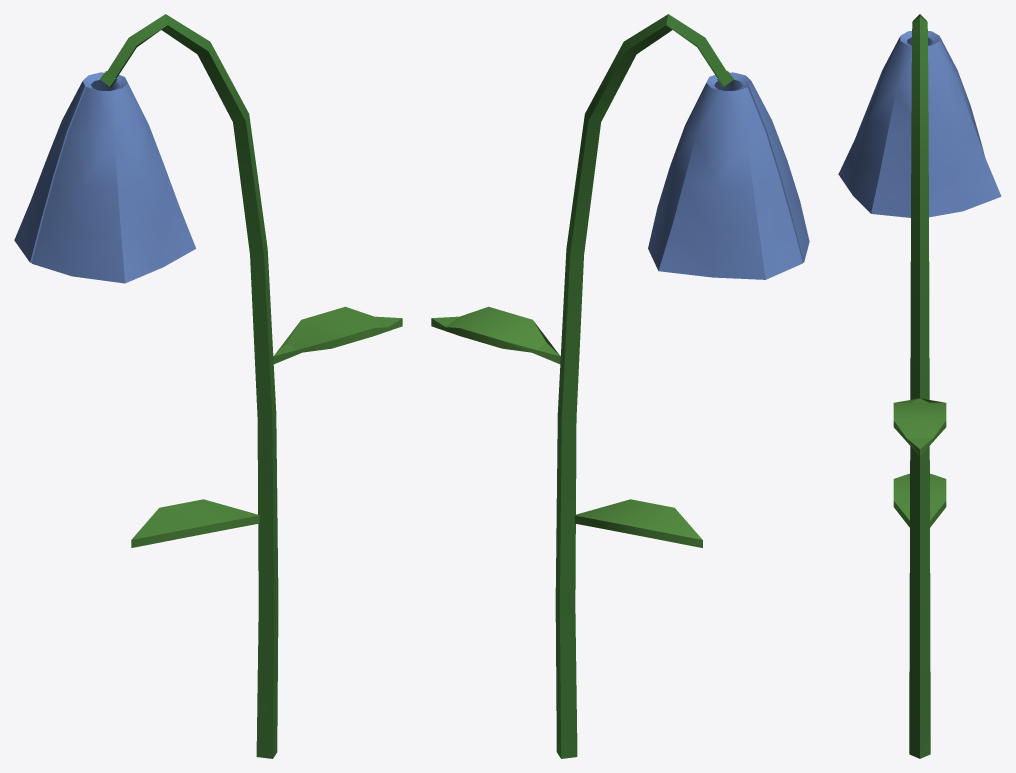
The model's file is flor_luminosa_b.fbx.
3 views of the same model, side by side, from view 1: azimuth 30°, elevation 25°; view 2: azimuth 150°, elevation 25°; view 3: azimuth 270°, elevation 25° (orthographic). The views are drawn at different scales.
Parts seen in each view (by area): view 1: flor_luminosa_b; view 2: flor_luminosa_b; view 3: flor_luminosa_b.
Boxes of the visible parts, left/top/right/bottom form: flor_luminosa_b: left=14, top=14, right=402, bottom=758; flor_luminosa_b: left=431, top=14, right=809, bottom=758; flor_luminosa_b: left=838, top=14, right=1001, bottom=758.
Size of the model in its own units: 0.5756 by 1.13 by 0.2416.
Materials: 2 (1 with a texture image).
